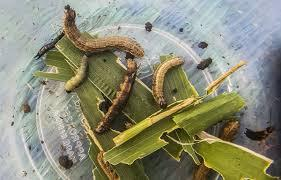fallarmy_worm: (60, 3, 148, 57), (93, 58, 141, 135), (151, 51, 186, 111), (60, 55, 91, 96)
